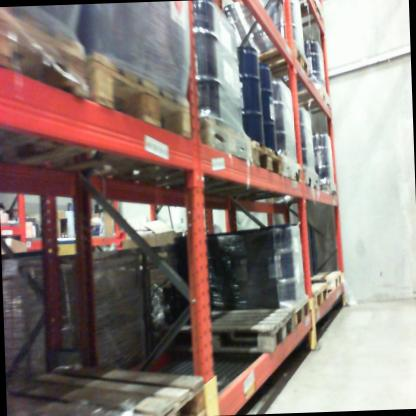pallet: (25, 48, 192, 194), (0, 6, 100, 157), (8, 353, 206, 416), (149, 301, 294, 362), (300, 172, 345, 292), (183, 112, 249, 192), (227, 125, 293, 192), (264, 31, 308, 92), (271, 292, 313, 336), (37, 203, 84, 237), (288, 82, 334, 110), (297, 161, 326, 204), (299, 281, 330, 315), (278, 150, 308, 184)
